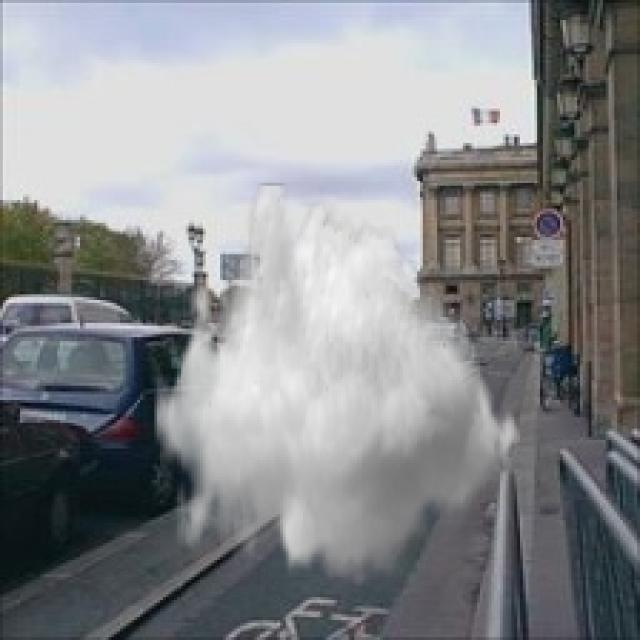smoke: (154, 183, 529, 586)
